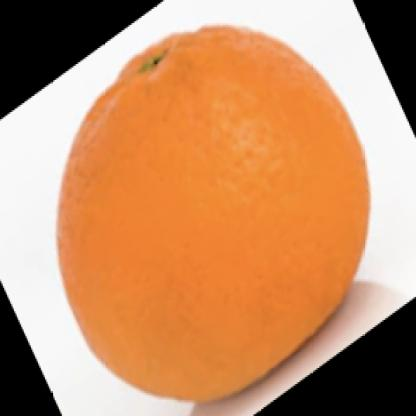fresh: (56, 25, 372, 402)
